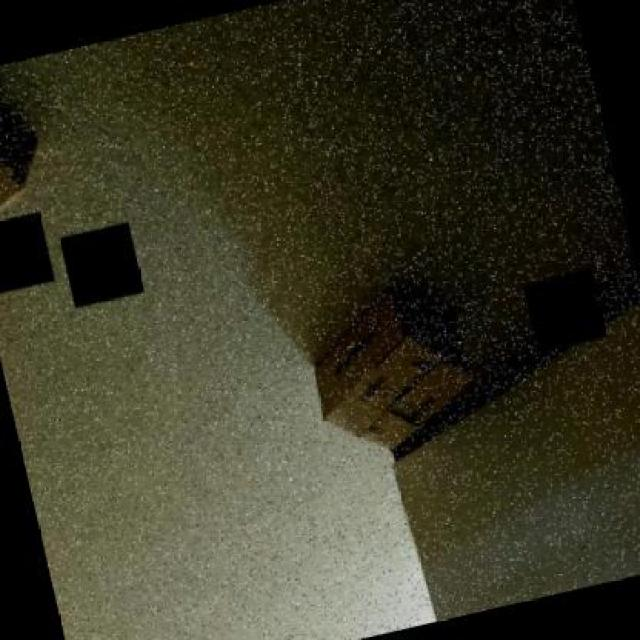box: (284, 264, 504, 491)
